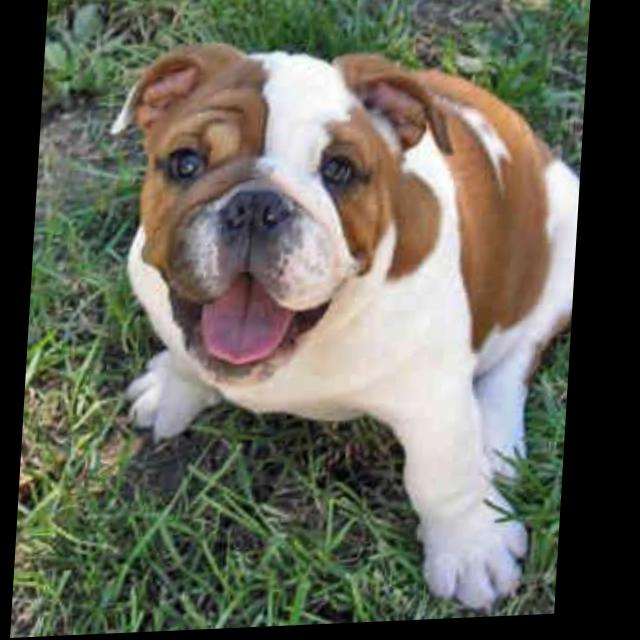bullmastiff: (89, 30, 591, 635)
